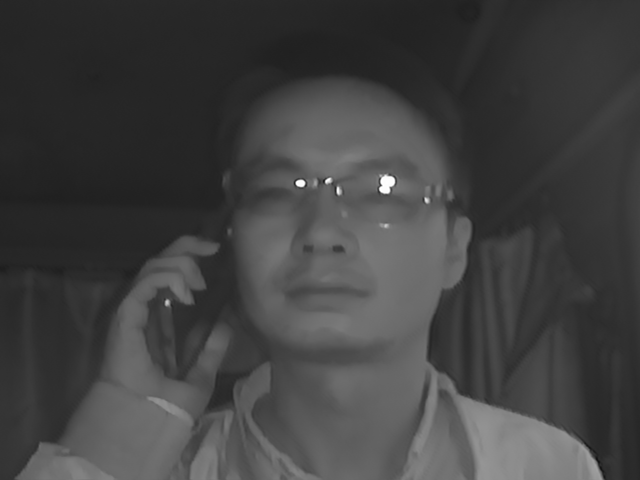hand: (104, 231, 231, 410)
